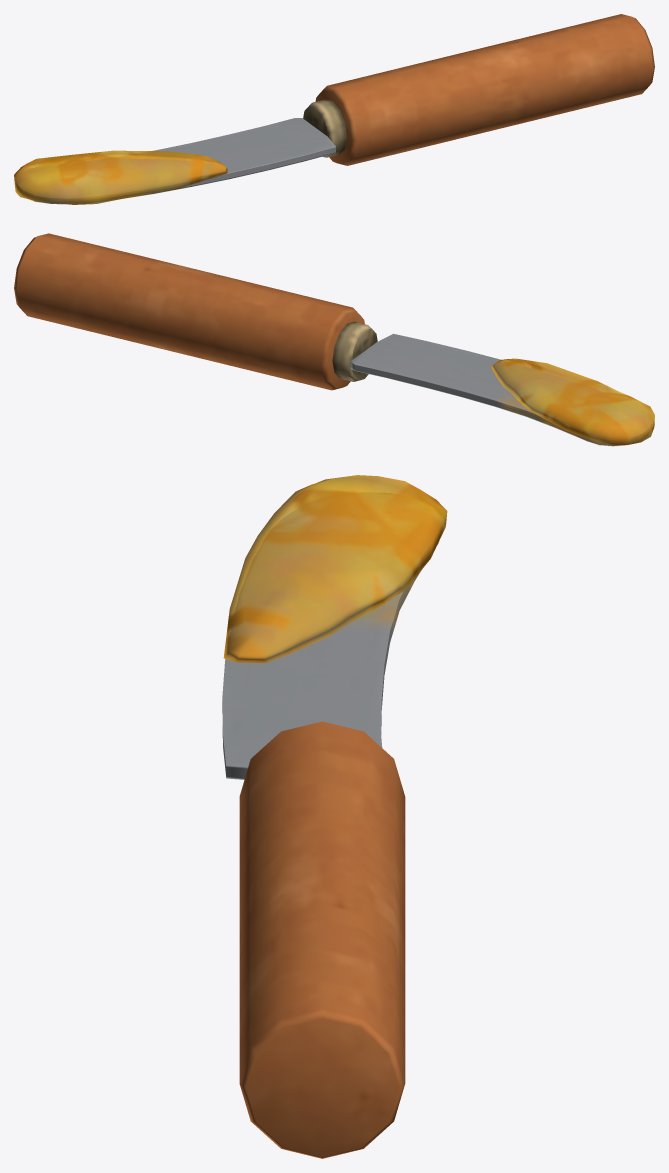
The model's file is pi_knife01_marmalade.gltf.
3 renders of one model, top to bottom at view 1: azimuth 30°, elevation 25°; view 2: azimuth 150°, elevation 25°; view 3: azimuth 270°, elevation 25°, orthographic. The views are drawn at different scales.
Visible parts, largest first — view 1: pi_knife01_mesh1_shape:pi_knife01_body01, pi_knife01_marmalade_01_shape:pi_knife01_marmalade_main_tra, pi_knife01_marmalade_02_shape:pi_knife01_marmalade_main_tra; view 2: pi_knife01_mesh1_shape:pi_knife01_body01, pi_knife01_marmalade_01_shape:pi_knife01_marmalade_main_tra, pi_knife01_marmalade_02_shape:pi_knife01_marmalade_main_tra; view 3: pi_knife01_mesh1_shape:pi_knife01_body01, pi_knife01_marmalade_01_shape:pi_knife01_marmalade_main_tra, pi_knife01_marmalade_02_shape:pi_knife01_marmalade_main_tra.
Part boxes in pixels (box(x1,y1,x2,y2)): pi_knife01_mesh1_shape:pi_knife01_body01: box(16, 14, 654, 204); pi_knife01_marmalade_01_shape:pi_knife01_marmalade_main_tra: box(14, 150, 227, 204); pi_knife01_marmalade_02_shape:pi_knife01_marmalade_main_tra: box(15, 165, 142, 201); pi_knife01_mesh1_shape:pi_knife01_body01: box(14, 233, 651, 446); pi_knife01_marmalade_01_shape:pi_knife01_marmalade_main_tra: box(491, 358, 654, 445); pi_knife01_marmalade_02_shape:pi_knife01_marmalade_main_tra: box(501, 398, 652, 446); pi_knife01_mesh1_shape:pi_knife01_body01: box(222, 493, 440, 1158); pi_knife01_marmalade_01_shape:pi_knife01_marmalade_main_tra: box(223, 475, 447, 663); pi_knife01_marmalade_02_shape:pi_knife01_marmalade_main_tra: box(248, 492, 441, 628).
Size of the model in its own units: 0.1991 by 0.0235 by 0.0321.
Materials: 2 (2 with a texture image).
